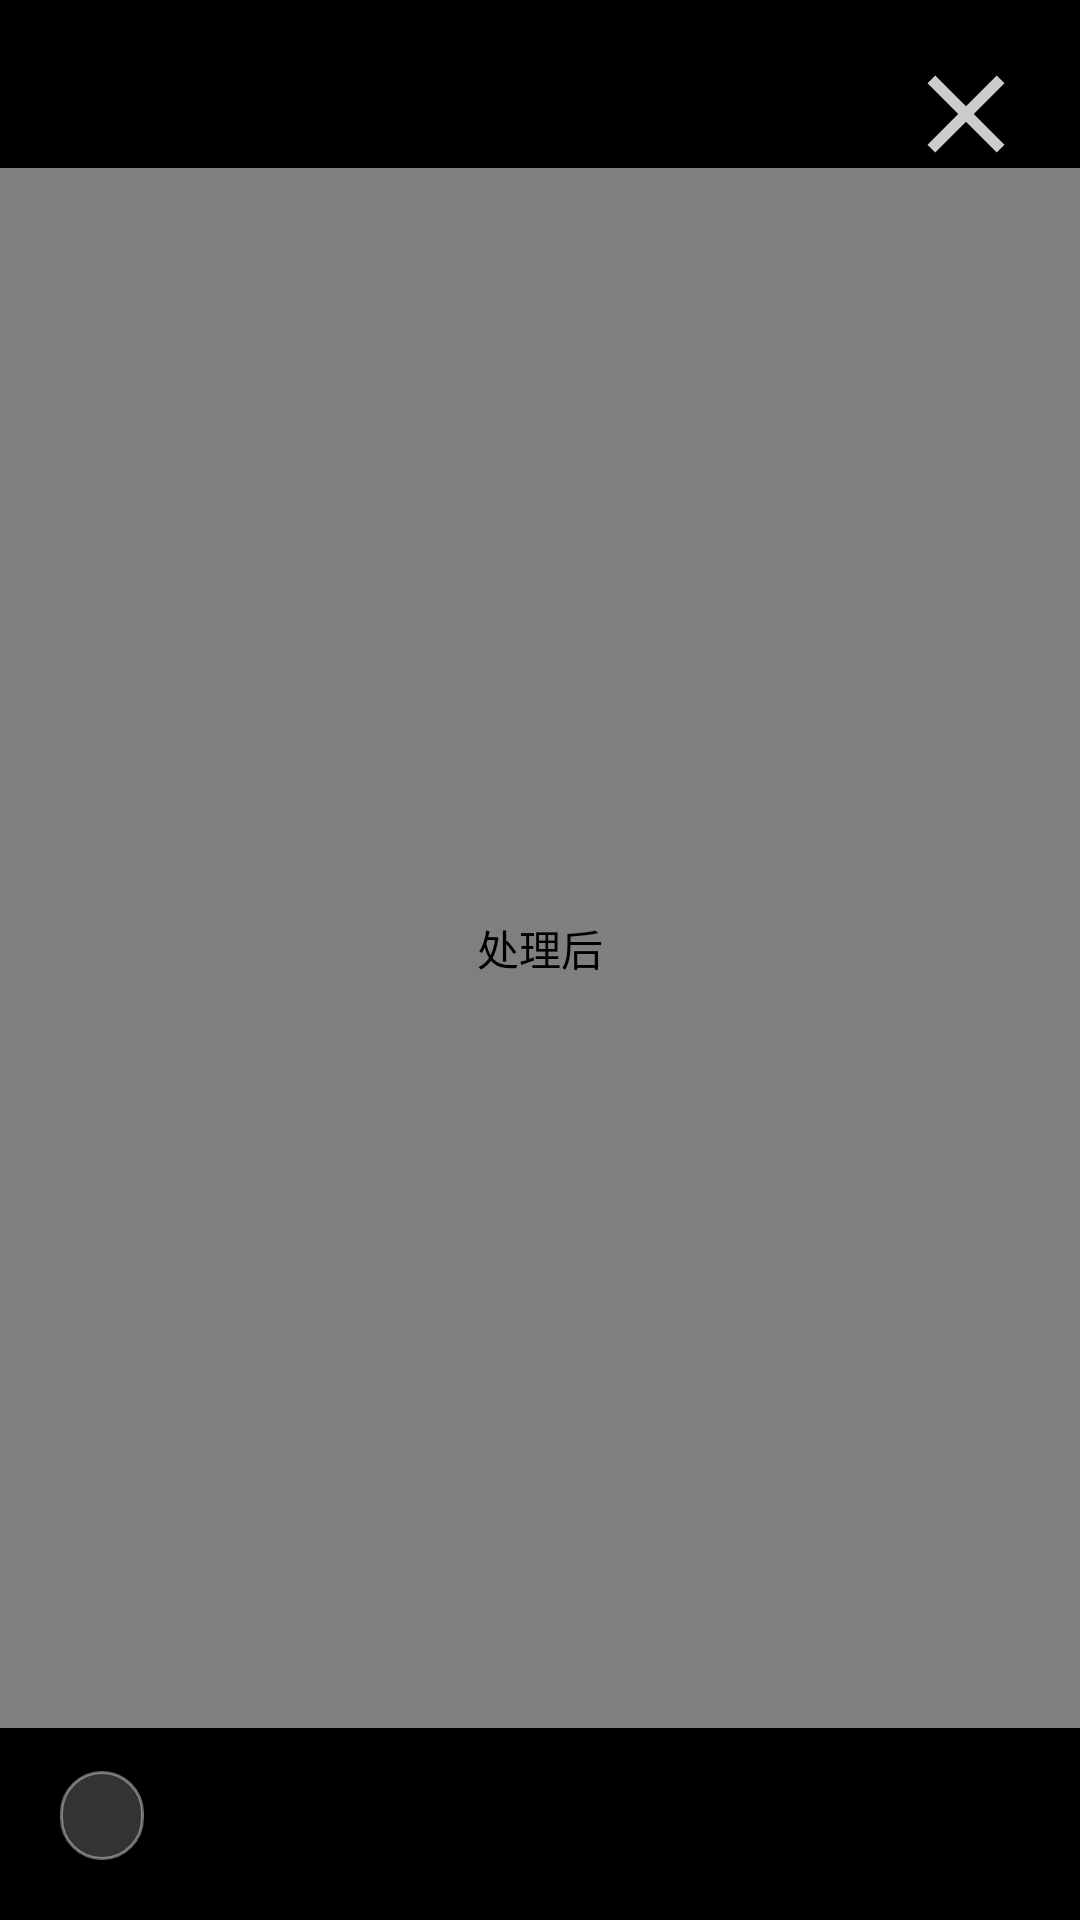

Where to tap for icons on this 1080×1920 app screen, as point (x, y):
关闭: point (966, 114)
